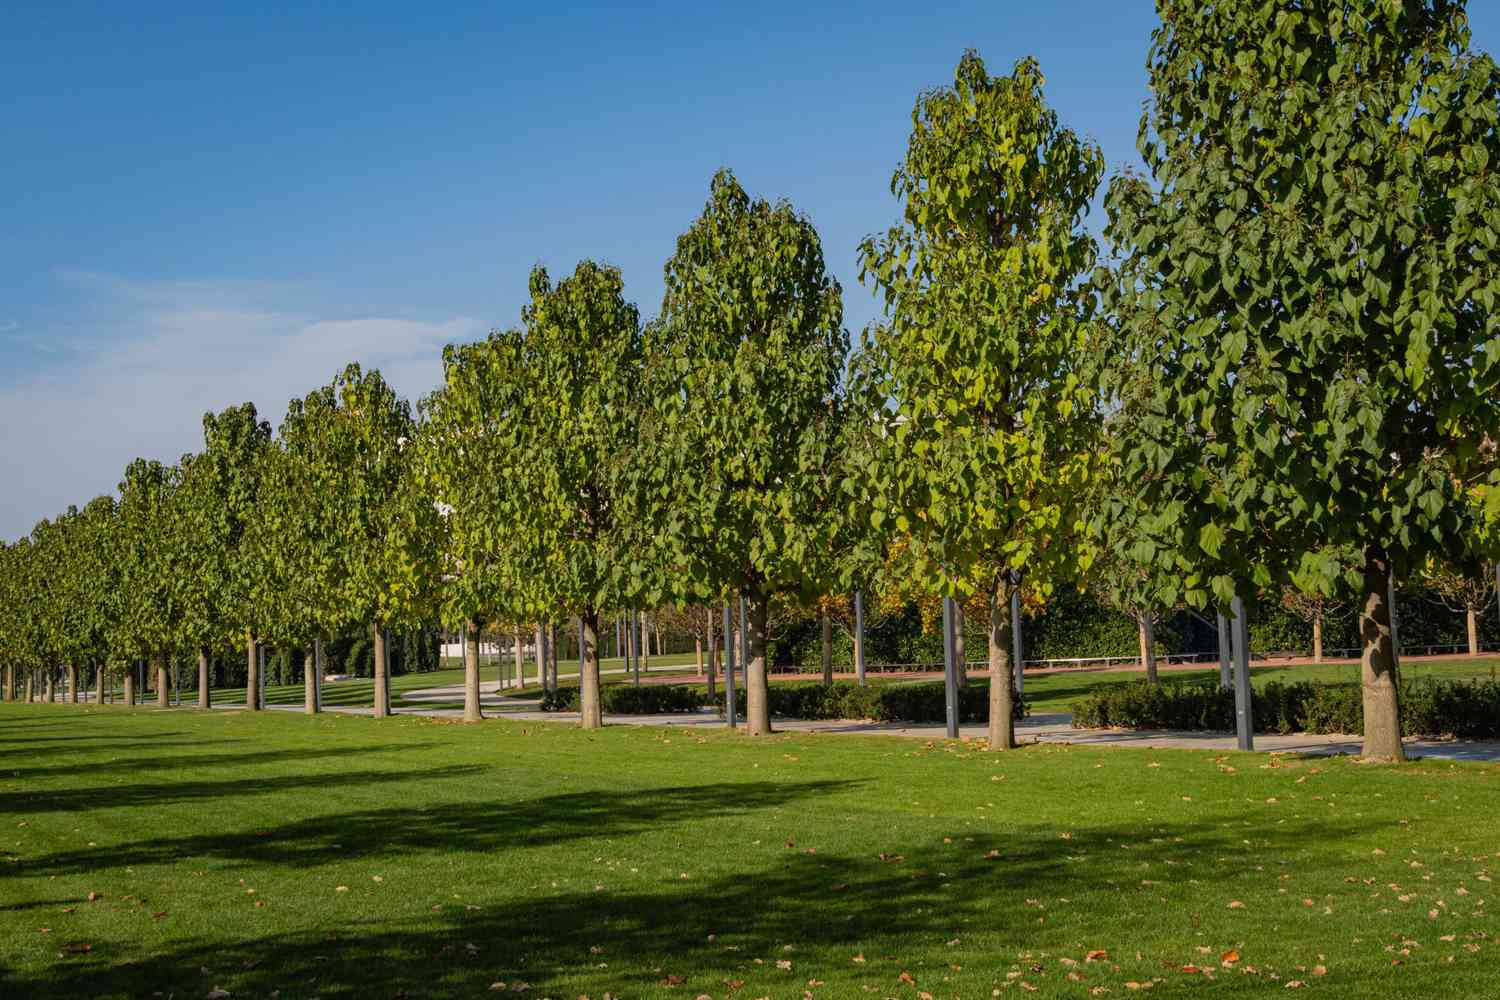grass: (4, 721, 1496, 994)
tree: (1353, 573, 1406, 765), (983, 608, 1016, 741), (748, 603, 769, 735), (578, 616, 599, 730), (462, 625, 483, 723), (371, 626, 392, 715), (298, 640, 319, 715), (242, 626, 258, 708), (200, 650, 212, 708), (157, 660, 167, 704), (124, 673, 134, 708)
